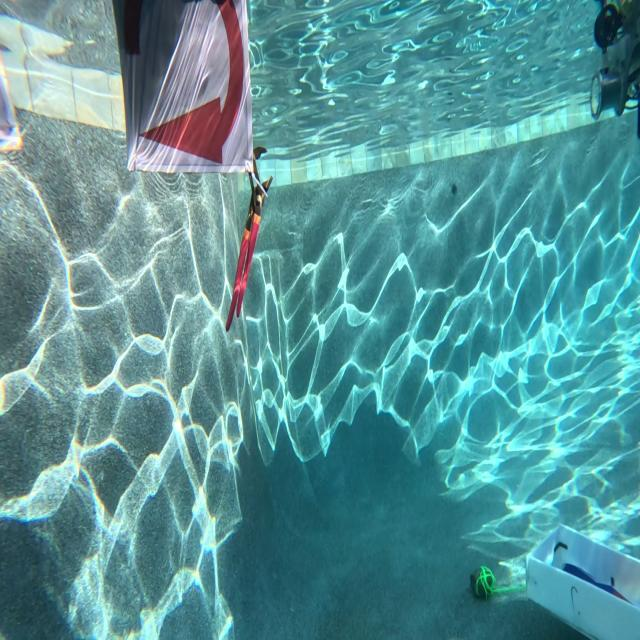red_side: (109, 0, 254, 179)
